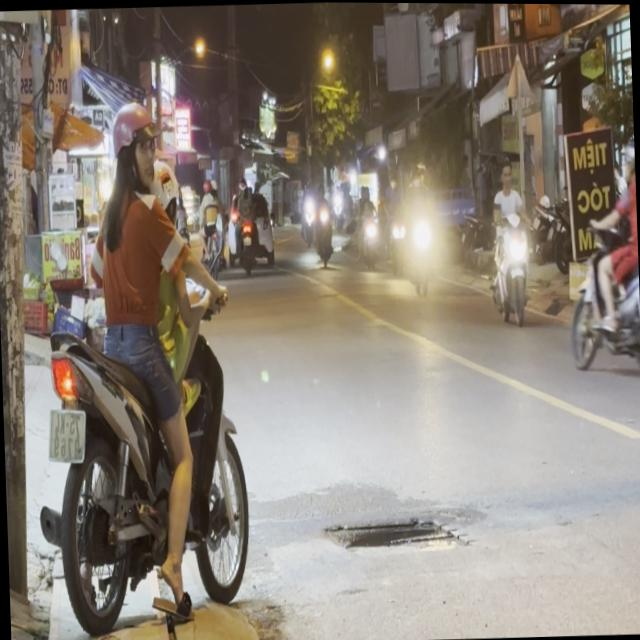helmet: (107, 100, 158, 198), (621, 138, 635, 181)
licenseplate: (22, 90, 257, 640), (559, 134, 640, 384), (486, 158, 536, 326)
motorcyclist: (500, 160, 514, 187)
nohelmet: (47, 409, 86, 460)
